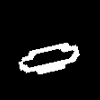chain: (19, 43, 79, 73)
